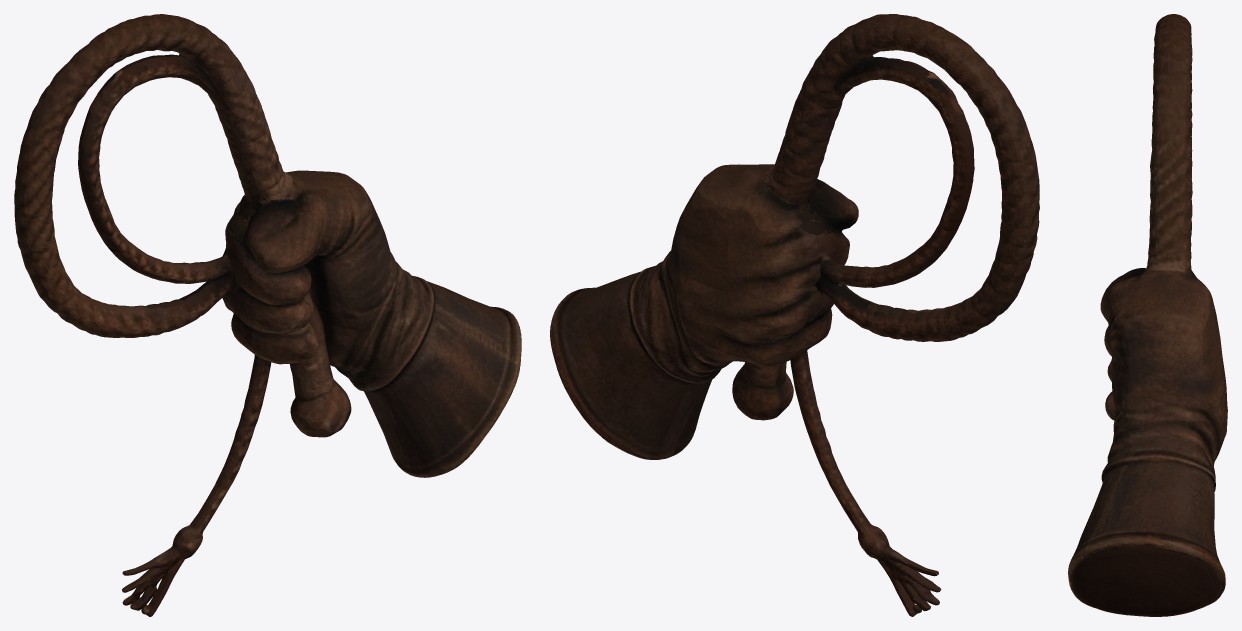
The model's file is glove-hd.glb.
3 renders of one model, left to right at view 1: azimuth 30°, elevation 25°; view 2: azimuth 150°, elevation 25°; view 3: azimuth 270°, elevation 25°, orthographic. The views are drawn at different scales.
Visible parts, largest first — view 1: tmp9a2dilny.ply; view 2: tmp9a2dilny.ply; view 3: tmp9a2dilny.ply.
Part boxes in pixels (<box>): tmp9a2dilny.ply: <box>14,14,521,616</box>; tmp9a2dilny.ply: <box>550,14,1039,616</box>; tmp9a2dilny.ply: <box>1068,14,1227,616</box>.
Size of the model in its own units: 1.69 by 1.99 by 0.5115.
Materials: 1 (1 with a texture image).
